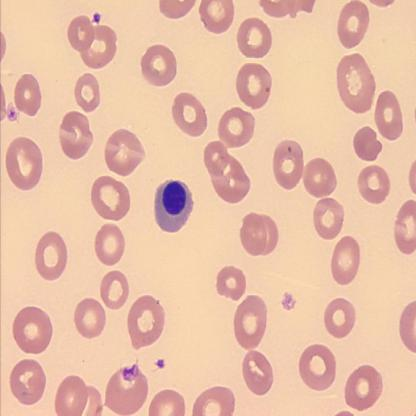NRC: (152, 176, 195, 236)
